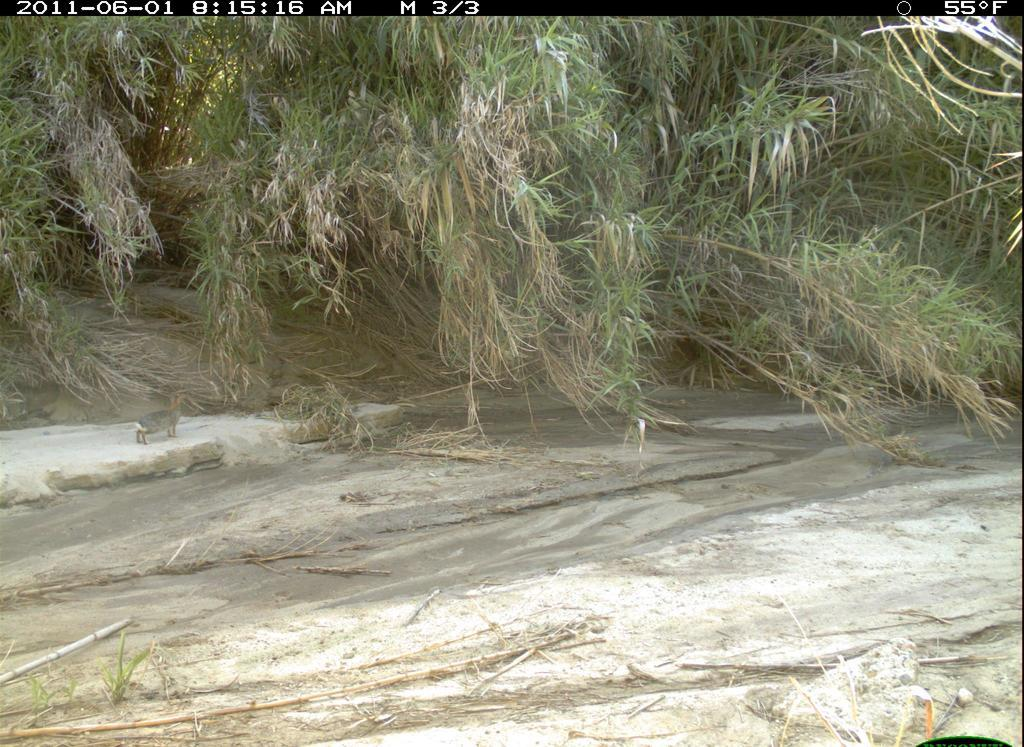rabbit: (126, 386, 194, 451)
